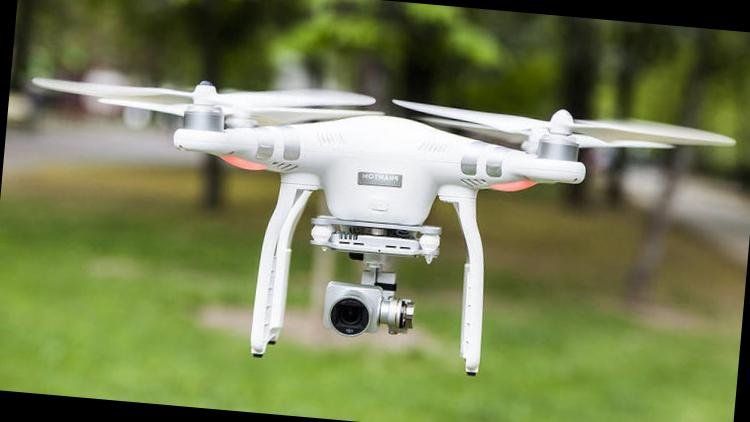drone: (12, 39, 746, 274)
